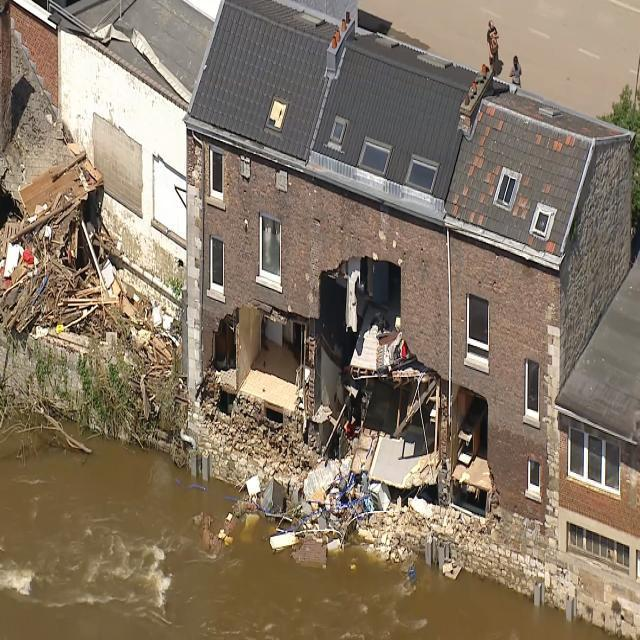flood: (0, 432, 612, 640)
house: (185, 0, 630, 616), (0, 0, 218, 308), (559, 251, 640, 640), (369, 375, 445, 496), (240, 365, 298, 431)
